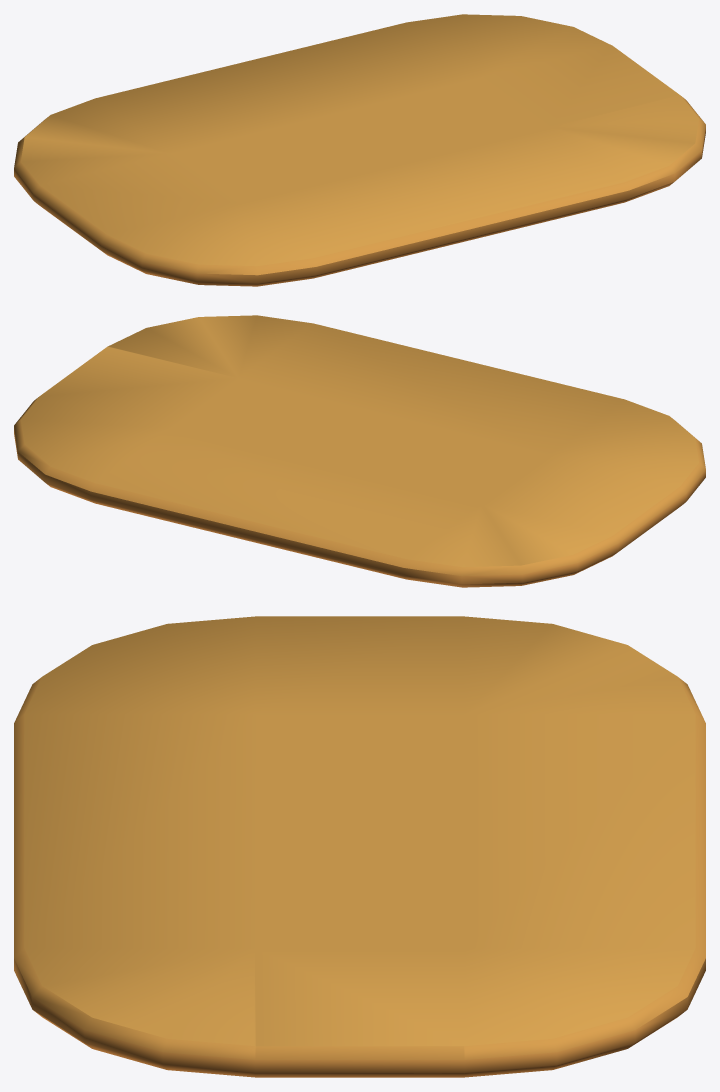
Rendered from K_rug_oval_A.glb.
3 views of the same model, one above another, from view 1: azimuth 30°, elevation 25°; view 2: azimuth 150°, elevation 25°; view 3: azimuth 270°, elevation 25° (orthographic). The views are drawn at different scales.
Parts seen in each view (by area): view 1: rug_oval_A; view 2: rug_oval_A; view 3: rug_oval_A.
Boxes of the visible parts, <box> form: rug_oval_A: <box>14,14,705,286</box>; rug_oval_A: <box>14,315,705,587</box>; rug_oval_A: <box>14,616,705,1077</box>.
Size of the model in its own units: 3 by 0.1 by 2.
